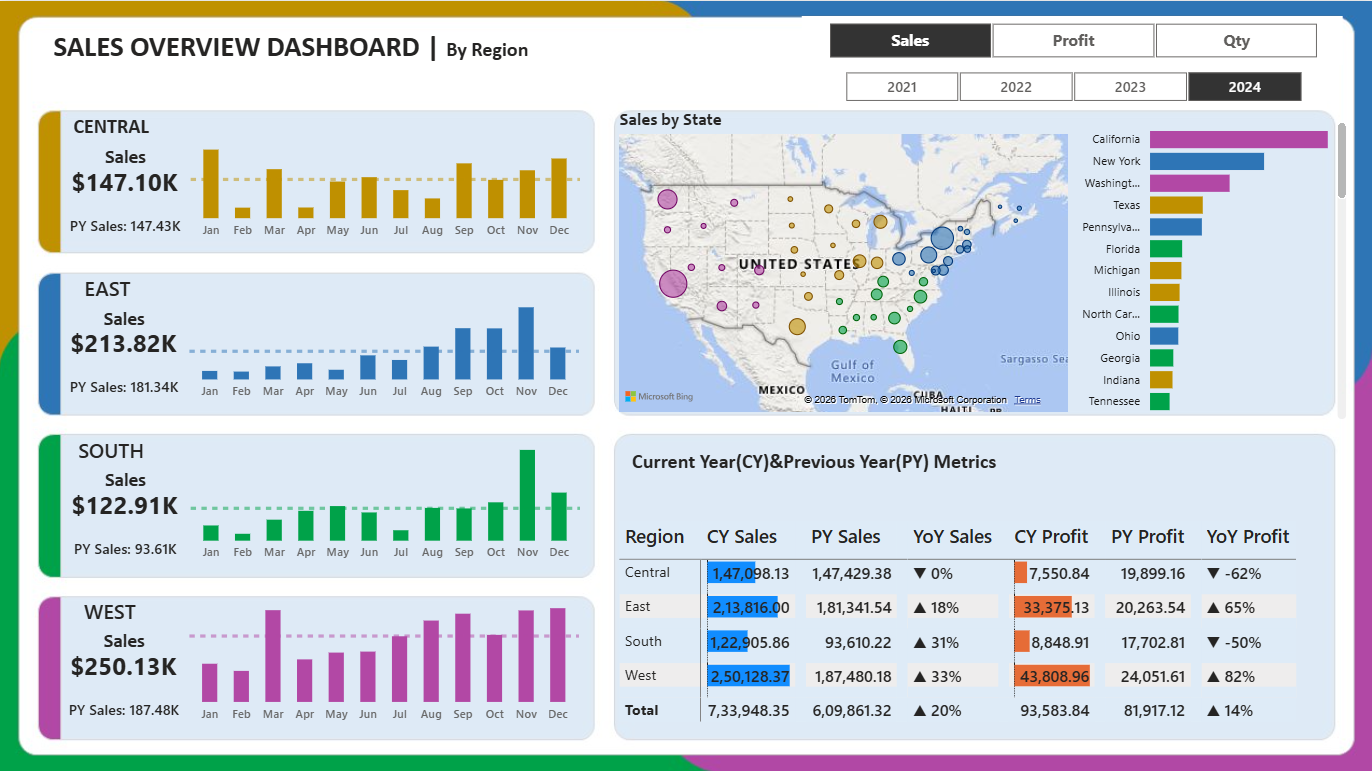

What the dashboard file says about the page in this screenshot:
{"tool":"powerbi","page":{"name":"Page 1","canvas":[1280,720],"ordinal":0},"visuals":[{"type":"slicer","fields":{"Values":["Select Metric.Select Metric"]},"box":[747.7,14,503.5,45.3],"z":0},{"type":"card","fields":{"Values":["Sales Data.Total Sales"]},"box":[61.6,153.5,112.8,32.6],"z":0,"group":"g1"},{"type":"card","fields":{"Values":["Sales Data.Total Sales"]},"box":[60.3,303.6,112.8,32.6],"z":0,"group":"g2"},{"type":"card","fields":{"Values":["Sales Data.Total Sales"]},"box":[61.6,453.7,112.8,32.6],"z":0,"group":"g3"},{"type":"card","fields":{"Values":["Sales Data.Total Sales"]},"box":[60.7,603.5,112.8,32.6],"z":0,"group":"g4"},{"type":"slicer","fields":{"Values":["Calendar Table.Year"]},"box":[762.8,59.3,473.3,40.7],"z":1000},{"type":"textbox","box":[43.9,100.2,122.1,38.4],"z":1000,"group":"g1"},{"type":"textbox","box":[42.6,250.3,122.1,38.4],"z":1000,"group":"g2"},{"type":"textbox","box":[43.9,400.4,122.1,38.4],"z":1000,"group":"g3"},{"type":"textbox","box":[43,550.2,122.1,38.4],"z":1000,"group":"g4"},{"type":"textbox","box":[11,20.6,524.2,49.4],"z":2000},{"type":"card","fields":{"Values":["Sales Data.Dynamic Title"]},"box":[76.7,129.1,83.7,34.9],"z":2000,"group":"g1"},{"type":"card","fields":{"Values":["Sales Data.Dynamic Title"]},"box":[75.4,279.2,83.7,34.9],"z":2000,"group":"g2"},{"type":"card","fields":{"Values":["Sales Data.Dynamic Title"]},"box":[76.7,429.3,83.7,34.9],"z":2000,"group":"g3"},{"type":"card","fields":{"Values":["Sales Data.Dynamic Title"]},"box":[75.8,579.1,83.7,34.9],"z":2000,"group":"g4"},{"type":"group","id":"g1","title":"Group 1","box":[30.2,100,516.3,137.2],"z":3000},{"type":"card","fields":{"Values":["Sales Data.PY KPI Sales"]},"box":[30.2,186,176.7,51.2],"z":3000,"group":"g1"},{"type":"card","fields":{"Values":["Sales Data.PY KPI Sales"]},"box":[28.9,336.1,176.7,51.2],"z":3000,"group":"g2"},{"type":"card","fields":{"Values":["Sales Data.PY KPI Sales"]},"box":[30.2,486.2,176.7,51.2],"z":3000,"group":"g3"},{"type":"card","fields":{"Values":["Sales Data.PY KPI Sales"]},"box":[29.3,636,176.7,51.2],"z":3000,"group":"g4"},{"type":"clusteredColumnChart","fields":{"Y":["Sales Data.Total Sales"],"Category":["Calendar Table.Month"]},"box":[174.4,100,372.1,130.2],"z":4000,"group":"g1"},{"type":"group","id":"g2","title":"Group 1","box":[28.9,250.1,517.3,137.2],"z":4000},{"type":"clusteredColumnChart","fields":{"Y":["Sales Data.Total Sales"],"Category":["Calendar Table.Month"]},"box":[173.1,250.1,372.1,130.2],"z":4000,"group":"g2"},{"type":"clusteredColumnChart","fields":{"Y":["Sales Data.Total Sales"],"Category":["Calendar Table.Month"]},"box":[174.4,400.2,372.1,130.2],"z":4000,"group":"g3"},{"type":"clusteredColumnChart","fields":{"Y":["Sales Data.Total Sales"],"Category":["Calendar Table.Month"]},"box":[173.5,550,372.1,130.2],"z":4000,"group":"g4"},{"type":"group","id":"g3","title":"Group 1","box":[30.2,400.2,517.4,137.2],"z":5000},{"type":"group","id":"g4","title":"Group 1","box":[29.3,550,517.4,137.2],"z":6000},{"type":"map","title":"Sales by State","fields":{"Size":["Sales Data.Total Sales"],"Category":["Sales Data.State/Province"],"Series":["Sales Data.Region"]},"box":[573.3,100,426.7,287.2],"z":7000},{"type":"barChart","fields":{"Y":["Sales Data.Total Sales"],"Category":["Sales Data.State/Province"],"Series":["Sales Data.Region"]},"box":[991.9,100,267.4,294.2],"z":8000},{"type":"pivotTable","fields":{"Rows":["Sales Data.Region"],"Values":["Sales Data.CY Sales","Sales Data.PY Sales","Sales Data.YoY Sales","Sales Data.CY Profit","Sales Data.PY Profit","Sales Data.YoY Profit"]},"box":[573.8,478.8,662.5,200],"z":9000},{"type":"textbox","box":[585,411.2,433.8,58.8],"z":10000}]}

Visuals, with their boxes in screenshot pixels (x1, y1, x2, y2), scaled from the page's 1280x720 canvas onto the 1372x771 screenshot:
slicer - Select Metric.Select Metric: pyautogui.locateOnScreen(801, 15, 1341, 64)
card - Sales Data.Total Sales: pyautogui.locateOnScreen(66, 164, 187, 199)
card - Sales Data.Total Sales: pyautogui.locateOnScreen(65, 325, 186, 360)
card - Sales Data.Total Sales: pyautogui.locateOnScreen(66, 486, 187, 521)
card - Sales Data.Total Sales: pyautogui.locateOnScreen(65, 646, 186, 681)
slicer - Calendar Table.Year: pyautogui.locateOnScreen(818, 64, 1325, 107)
textbox: pyautogui.locateOnScreen(47, 107, 178, 148)
textbox: pyautogui.locateOnScreen(46, 268, 177, 309)
textbox: pyautogui.locateOnScreen(47, 429, 178, 470)
textbox: pyautogui.locateOnScreen(46, 589, 177, 630)
textbox: pyautogui.locateOnScreen(12, 22, 574, 75)
card - Sales Data.Dynamic Title: pyautogui.locateOnScreen(82, 138, 172, 176)
card - Sales Data.Dynamic Title: pyautogui.locateOnScreen(81, 299, 171, 336)
card - Sales Data.Dynamic Title: pyautogui.locateOnScreen(82, 460, 172, 497)
card - Sales Data.Dynamic Title: pyautogui.locateOnScreen(81, 620, 171, 657)
"Group 1" group: pyautogui.locateOnScreen(32, 107, 586, 254)
card - Sales Data.PY KPI Sales: pyautogui.locateOnScreen(32, 199, 222, 254)
card - Sales Data.PY KPI Sales: pyautogui.locateOnScreen(31, 360, 220, 415)
card - Sales Data.PY KPI Sales: pyautogui.locateOnScreen(32, 521, 222, 575)
card - Sales Data.PY KPI Sales: pyautogui.locateOnScreen(31, 681, 221, 736)
clusteredColumnChart - Sales Data.Total Sales x Calendar Table.Month: pyautogui.locateOnScreen(187, 107, 586, 247)
"Group 1" group: pyautogui.locateOnScreen(31, 268, 585, 415)
clusteredColumnChart - Sales Data.Total Sales x Calendar Table.Month: pyautogui.locateOnScreen(186, 268, 584, 407)
clusteredColumnChart - Sales Data.Total Sales x Calendar Table.Month: pyautogui.locateOnScreen(187, 429, 586, 568)
clusteredColumnChart - Sales Data.Total Sales x Calendar Table.Month: pyautogui.locateOnScreen(186, 589, 585, 728)
"Group 1" group: pyautogui.locateOnScreen(32, 429, 587, 575)
"Group 1" group: pyautogui.locateOnScreen(31, 589, 586, 736)
"Sales by State" map: pyautogui.locateOnScreen(615, 107, 1072, 415)
barChart - Sales Data.Total Sales x Sales Data.State/Province: pyautogui.locateOnScreen(1063, 107, 1350, 422)
pivotTable - Sales Data.Region x Sales Data.CY Sales: pyautogui.locateOnScreen(615, 513, 1325, 727)
textbox: pyautogui.locateOnScreen(627, 440, 1092, 503)
